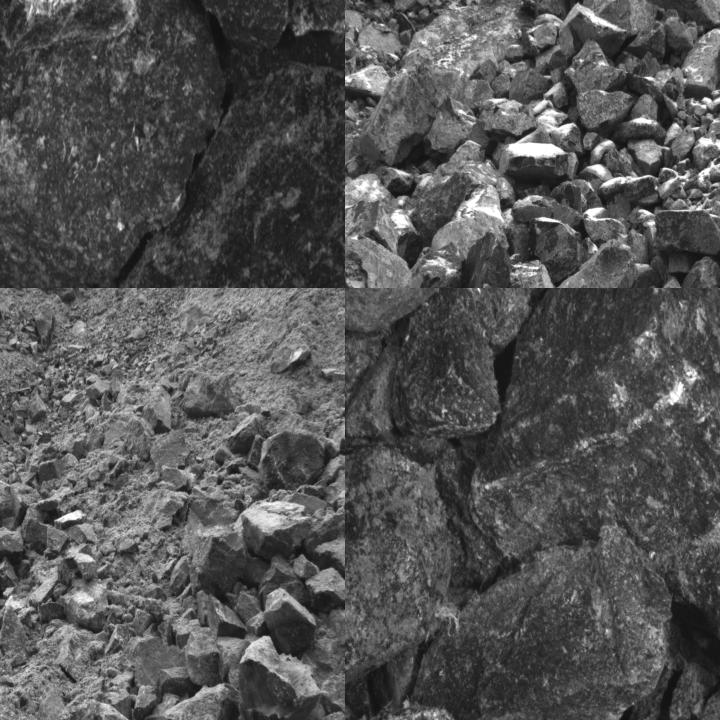stone: (468, 288, 719, 712), (0, 0, 230, 287), (84, 49, 344, 287), (412, 536, 674, 719), (345, 446, 453, 684), (390, 289, 498, 439), (357, 62, 463, 165), (134, 0, 298, 50), (240, 639, 322, 719), (443, 288, 528, 347), (236, 501, 313, 562), (345, 340, 392, 434), (529, 216, 587, 286), (263, 432, 328, 494), (554, 241, 639, 287), (184, 498, 232, 578), (345, 288, 440, 328), (124, 634, 187, 688), (265, 589, 317, 654), (195, 532, 247, 596), (345, 237, 410, 287), (566, 40, 626, 94), (653, 210, 719, 258), (155, 683, 242, 719), (393, 246, 463, 287), (500, 142, 571, 181), (576, 88, 632, 136), (181, 372, 238, 415), (683, 28, 719, 95), (485, 100, 537, 143), (598, 0, 658, 37), (184, 628, 221, 686), (66, 579, 108, 630), (423, 108, 467, 155), (345, 200, 379, 259), (258, 562, 308, 601), (149, 430, 191, 476), (142, 486, 187, 528), (206, 593, 246, 638), (21, 517, 68, 554), (309, 507, 344, 556), (506, 259, 567, 287), (345, 64, 391, 99), (306, 568, 344, 610), (509, 69, 553, 105), (55, 552, 101, 586), (229, 414, 267, 454), (123, 415, 156, 458), (0, 607, 30, 653), (58, 702, 131, 719), (270, 344, 311, 374), (314, 537, 344, 577), (682, 255, 719, 287), (54, 639, 82, 679), (145, 389, 170, 432), (158, 669, 195, 698), (132, 681, 160, 719), (321, 672, 344, 714), (0, 526, 26, 559), (40, 687, 66, 719), (292, 551, 318, 583), (104, 690, 132, 719), (234, 591, 262, 620), (169, 620, 200, 643), (37, 457, 66, 481), (327, 608, 344, 648), (0, 559, 21, 591), (172, 558, 190, 594), (161, 466, 187, 488), (40, 602, 66, 624), (28, 394, 48, 422), (69, 523, 95, 544), (83, 427, 103, 454), (84, 380, 111, 399), (196, 592, 210, 625), (246, 613, 266, 634), (0, 703, 14, 719)
